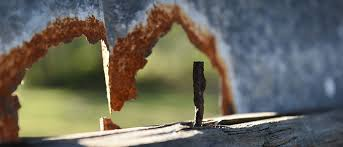rust: (103, 45, 151, 113), (1, 48, 38, 136), (45, 21, 104, 43), (186, 36, 215, 58)
